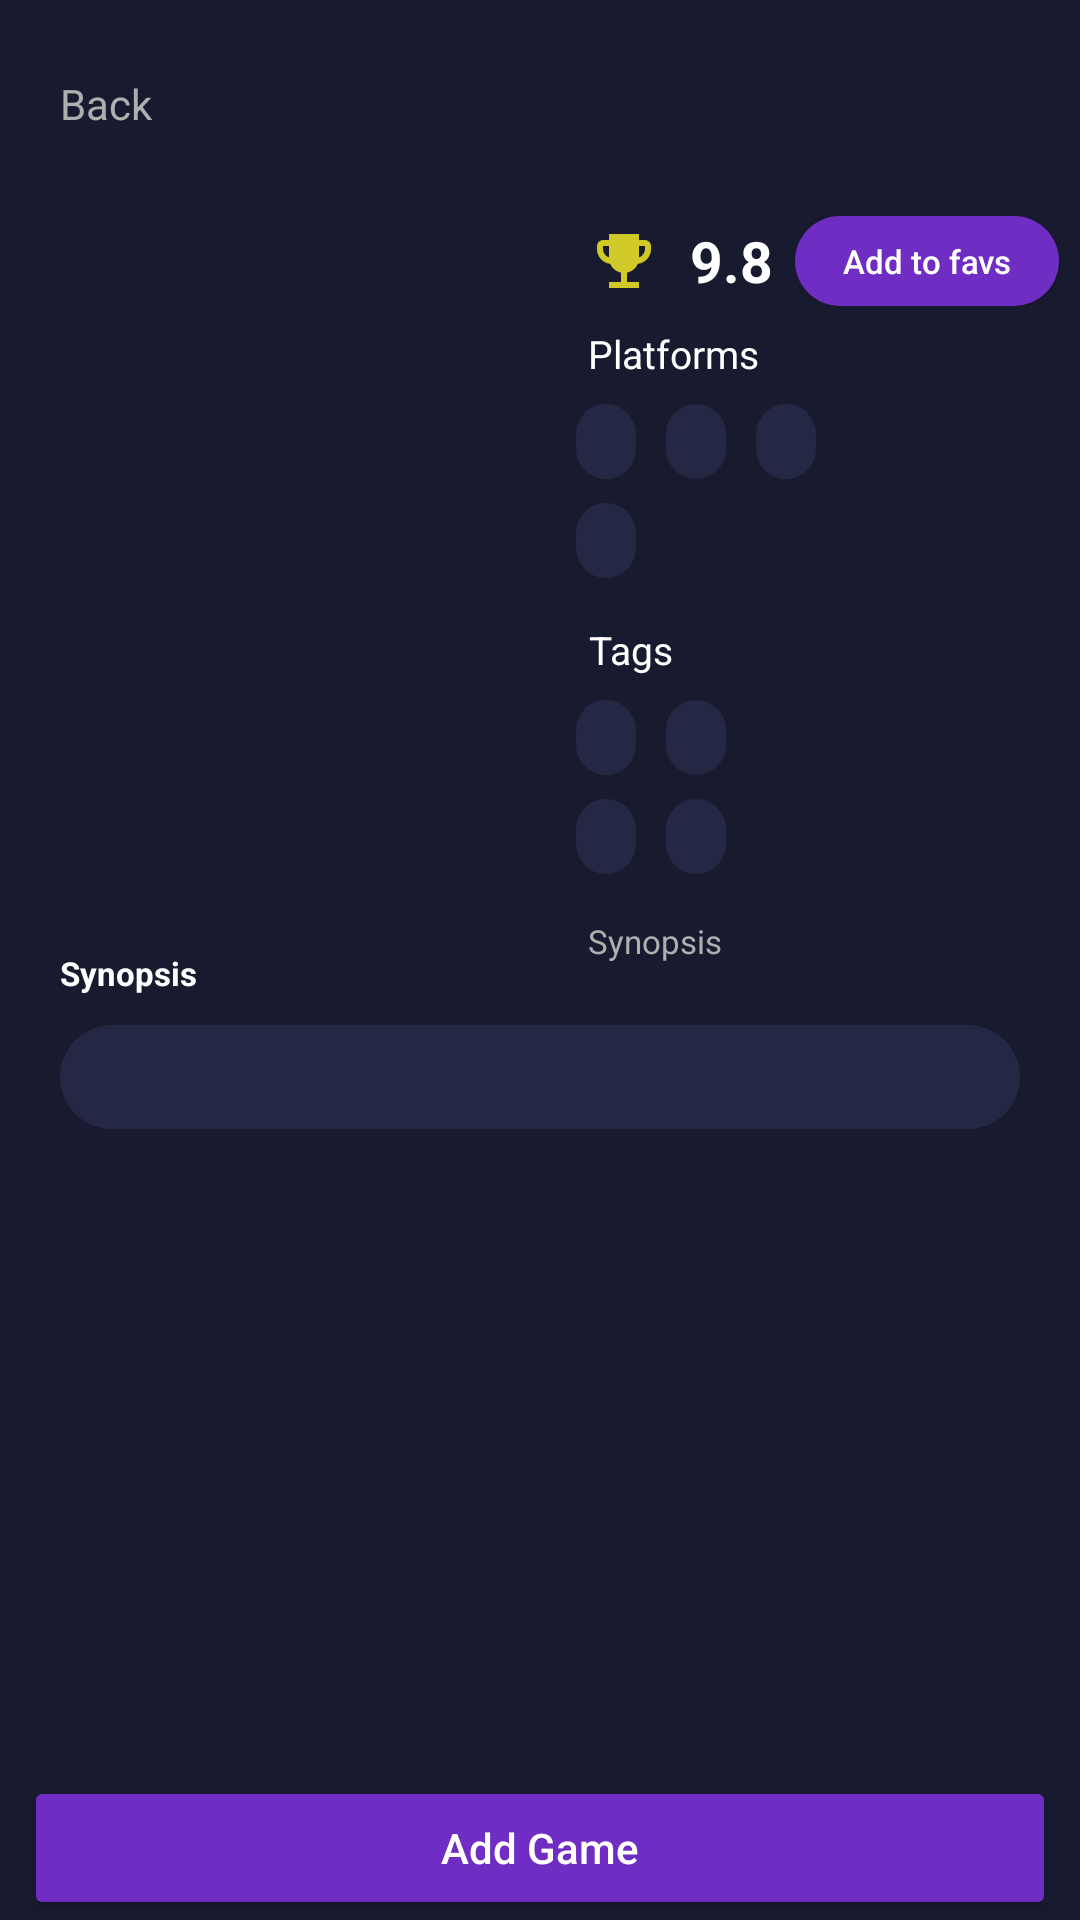

Icons on this 1080px x 1920px Android screen, each with the point to tap as point (x, y):
trophy: point (624, 261)
